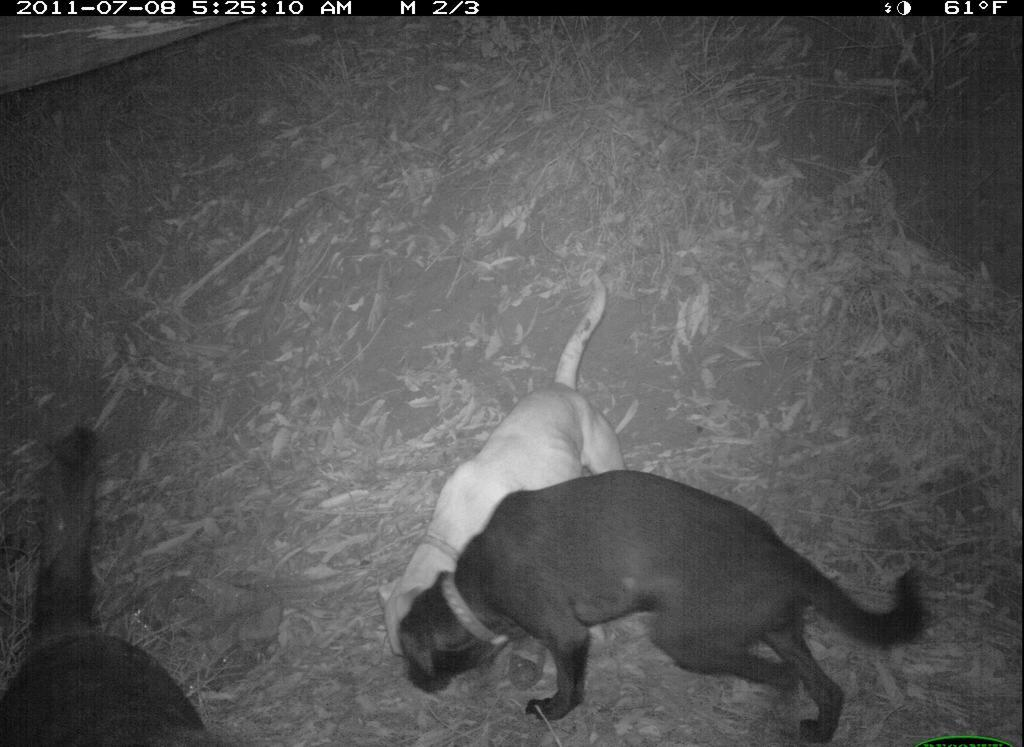dog: (399, 454, 934, 745), (373, 265, 635, 678), (2, 429, 226, 747)
